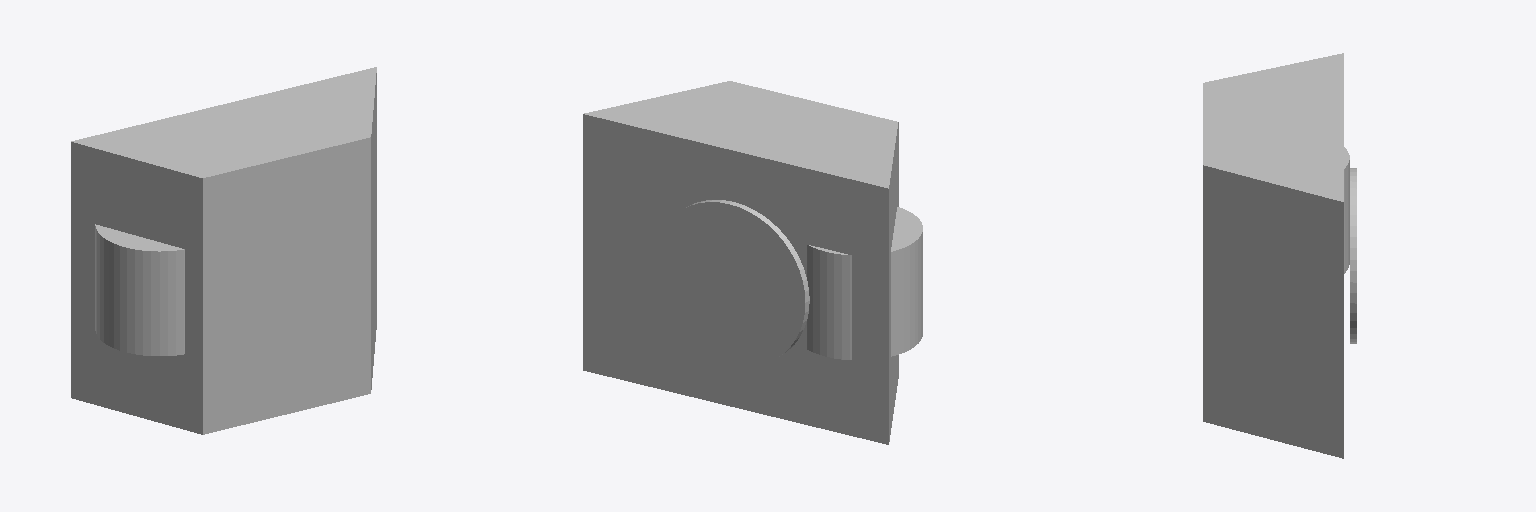
The model's file is head.obj.
The picture shows the model from 3 angles: view 1: azimuth 30°, elevation 25°; view 2: azimuth 150°, elevation 25°; view 3: azimuth 270°, elevation 25°; orthographic projection.
Visible parts, largest first — view 1: obj_1, obj_2; view 2: obj_1, obj_0, obj_2; view 3: obj_1, obj_0, obj_2.
Part boxes in pixels (x1,y1,x2,y2): obj_1: (71,67,376,434); obj_2: (95,224,184,355); obj_1: (583,81,898,444); obj_0: (653,200,809,365); obj_2: (807,207,922,359); obj_1: (1203,53,1343,458); obj_0: (1350,168,1356,343); obj_2: (1344,147,1349,273).
Size of the model in its own units: 27.5 by 22 by 12.